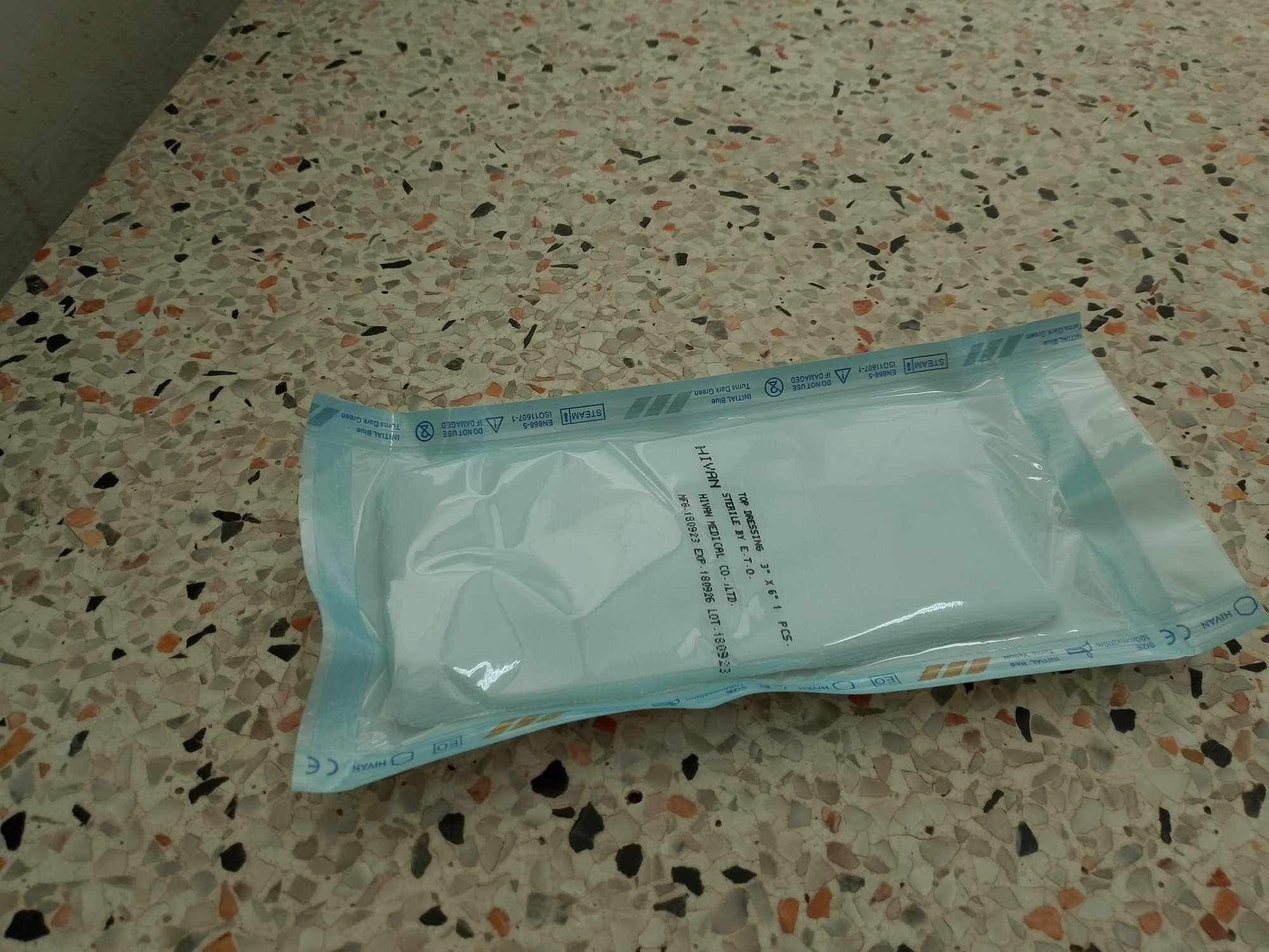Infectious: (288, 310, 1265, 794)
